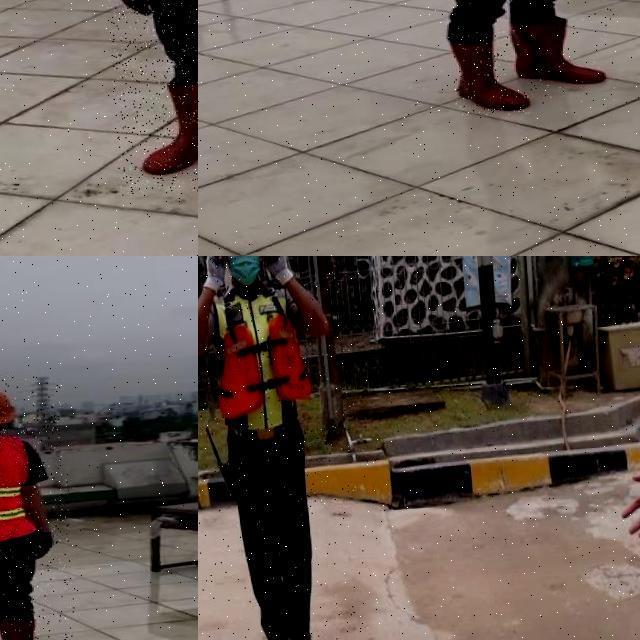boots: (506, 11, 610, 92), (450, 28, 529, 118), (136, 79, 198, 175), (0, 614, 56, 640), (289, 629, 321, 640)
helmet: (0, 381, 20, 430)
vest: (208, 282, 314, 434), (0, 436, 39, 546)
